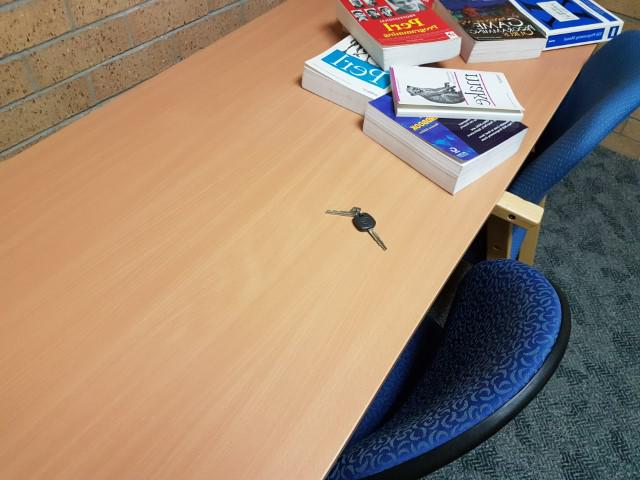key: (353, 212, 387, 250)
